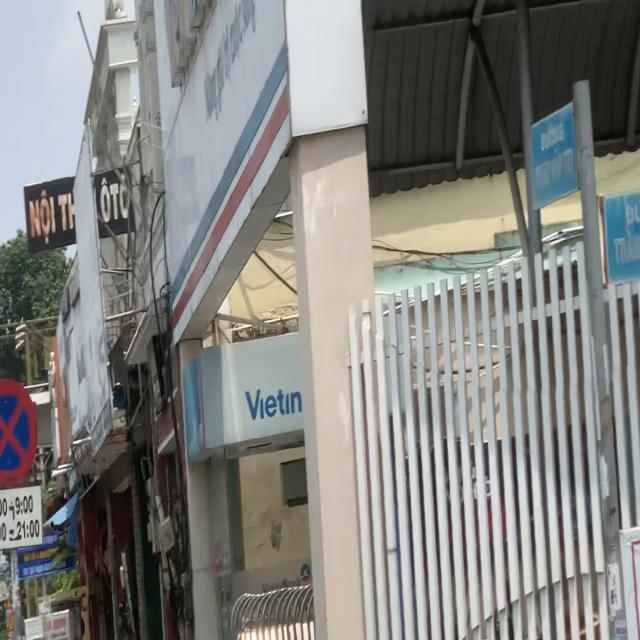Cam dung va do: (0, 375, 40, 490)
